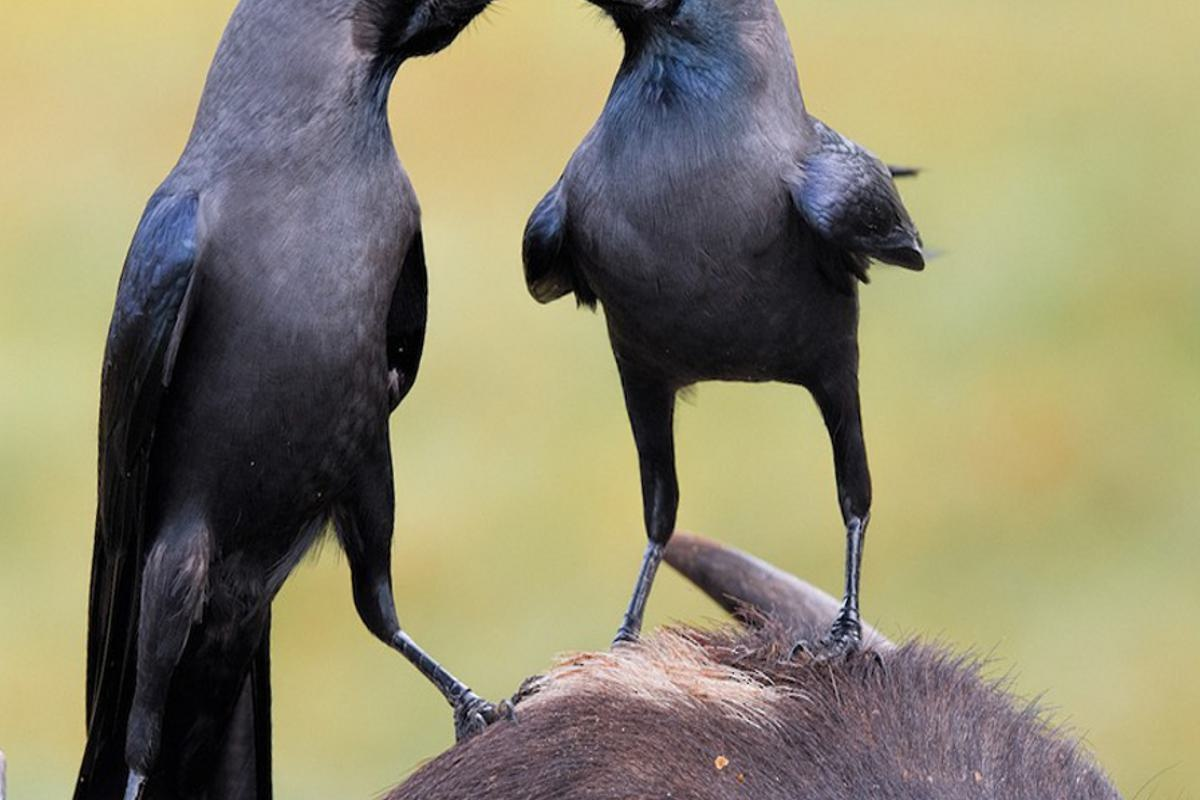crow: (46, 2, 521, 800), (447, 1, 905, 666)
